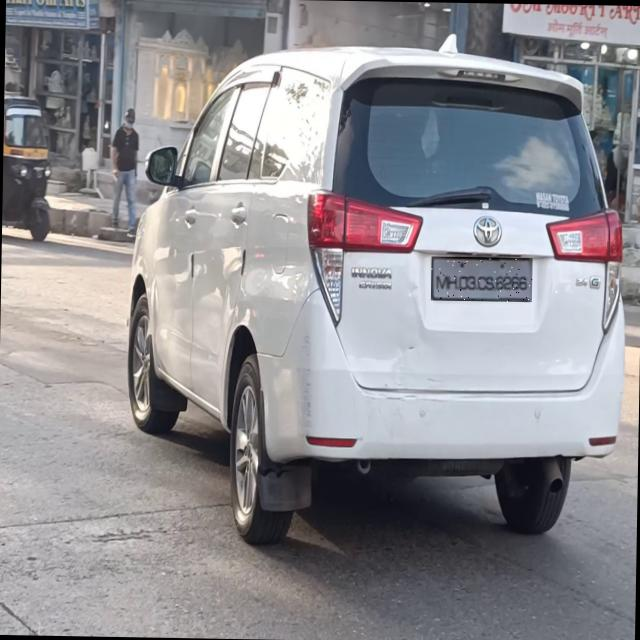Plate: (431, 257, 533, 303)
